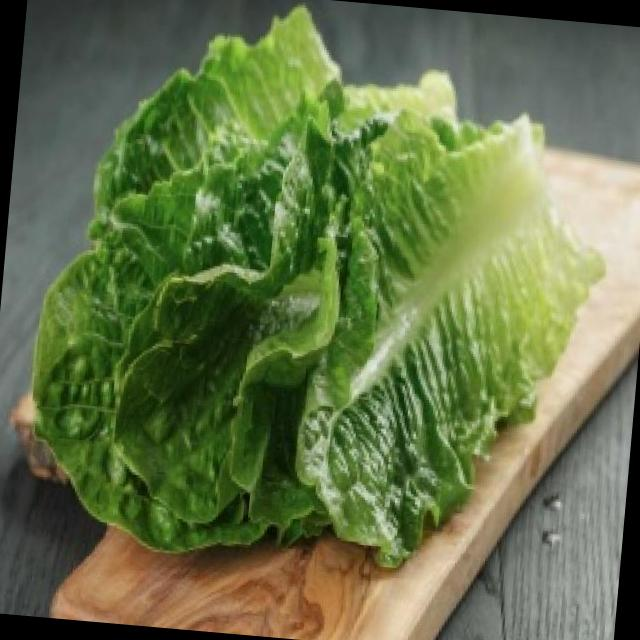Lettuce-Ready-to-Harvest: (32, 7, 601, 566)
